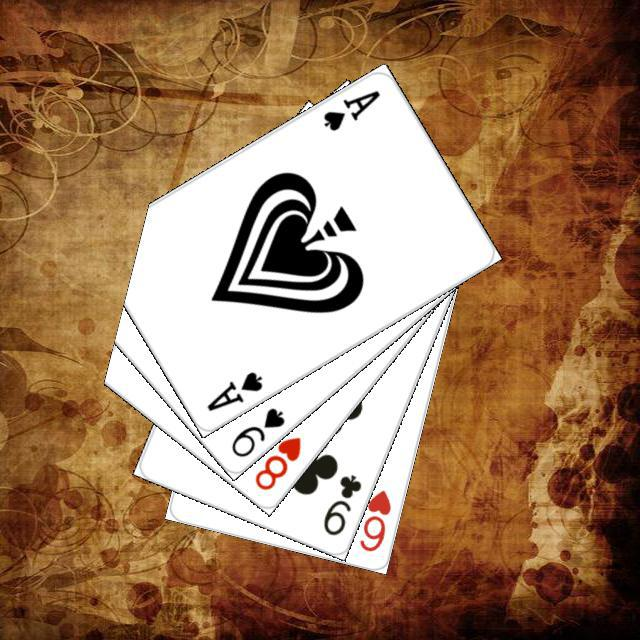6h: (354, 485, 393, 554)
8h: (249, 431, 303, 492)
9c: (318, 469, 363, 538)
9s: (226, 402, 287, 459)
As: (318, 85, 382, 133), (201, 366, 265, 413)
